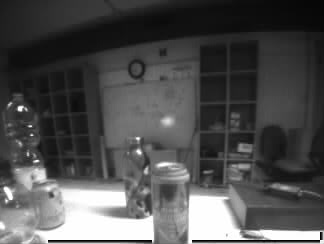Bottle: (5, 97, 45, 181), (121, 135, 153, 218), (1, 172, 37, 244)
Tin can: (152, 163, 189, 244), (35, 181, 62, 229)
